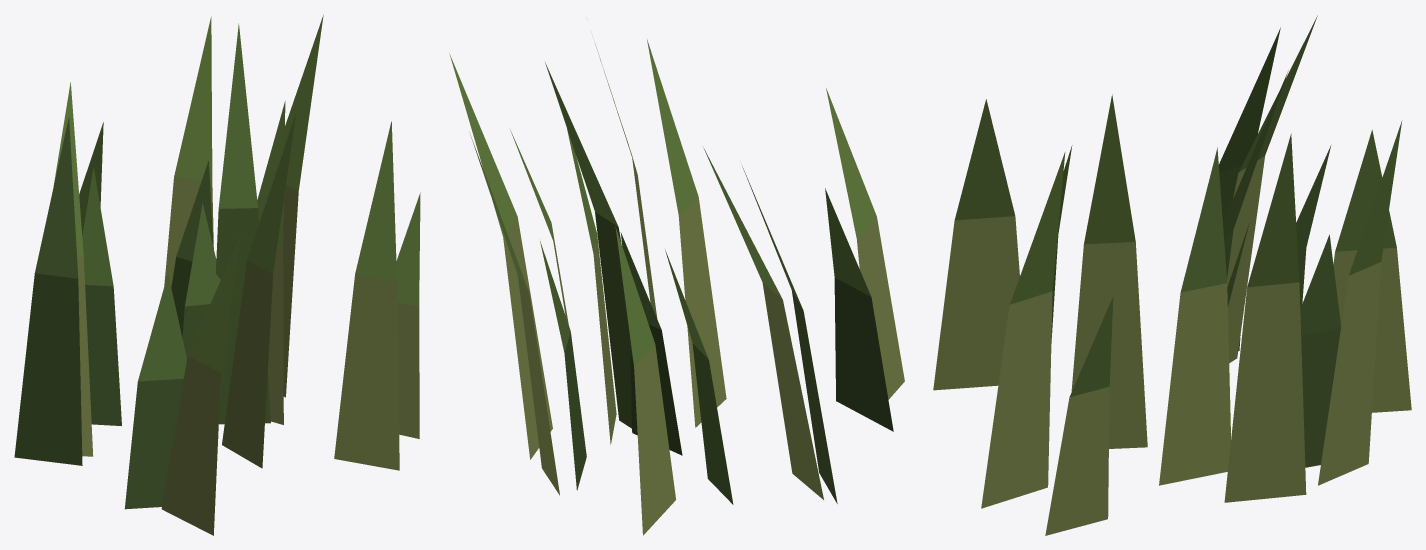
The model's file is grass-clump-d.glb.
3 renders of one model, left to right at view 1: azimuth 30°, elevation 25°; view 2: azimuth 150°, elevation 25°; view 3: azimuth 270°, elevation 25°, orthographic. The views are drawn at different scales.
Parts seen in each view (by area): view 1: Grass_Clump_D; view 2: Grass_Clump_D; view 3: Grass_Clump_D.
Boxes of the visible parts, box(x1,y1,x2,y2) form: Grass_Clump_D: box(14, 15, 420, 535); Grass_Clump_D: box(449, 39, 904, 535); Grass_Clump_D: box(933, 15, 1411, 535).
Size of the model in its own units: 0.2901 by 0.2828 by 0.2901.
Materials: 1 (1 with a texture image).
